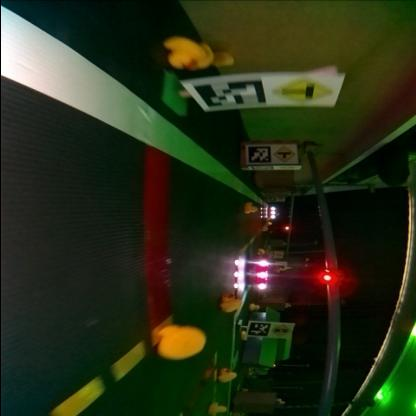Duckie: (162, 326, 206, 360), (162, 37, 204, 70), (219, 294, 240, 312), (206, 403, 228, 415), (218, 370, 236, 382), (244, 204, 256, 215), (250, 304, 258, 310)
Duckiebot: (247, 260, 271, 290)
Intersection sign: (273, 78, 335, 106), (276, 148, 296, 163)
QR code: (195, 82, 261, 110), (248, 146, 266, 164), (249, 323, 270, 338), (250, 166, 274, 172)
Signal sign: (272, 324, 290, 338)
Traffic light: (318, 270, 342, 284)
